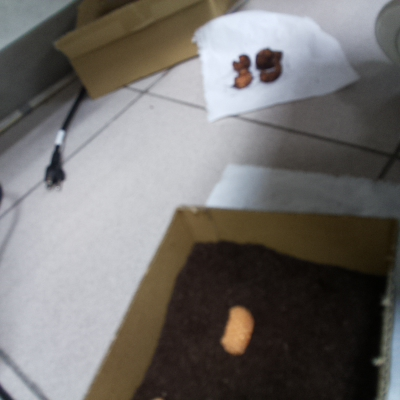eggs: (208, 298, 261, 360)
